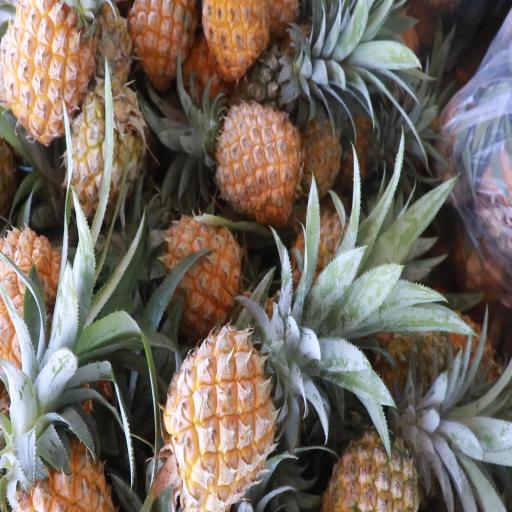------------------------------: (65, 84, 142, 222), (324, 417, 420, 512)
Pineapple - v8 v1: (158, 321, 272, 499), (0, 222, 73, 395), (4, 0, 91, 138), (10, 397, 110, 512), (213, 104, 298, 216), (160, 214, 243, 325), (126, 0, 197, 79), (198, 0, 267, 73)
